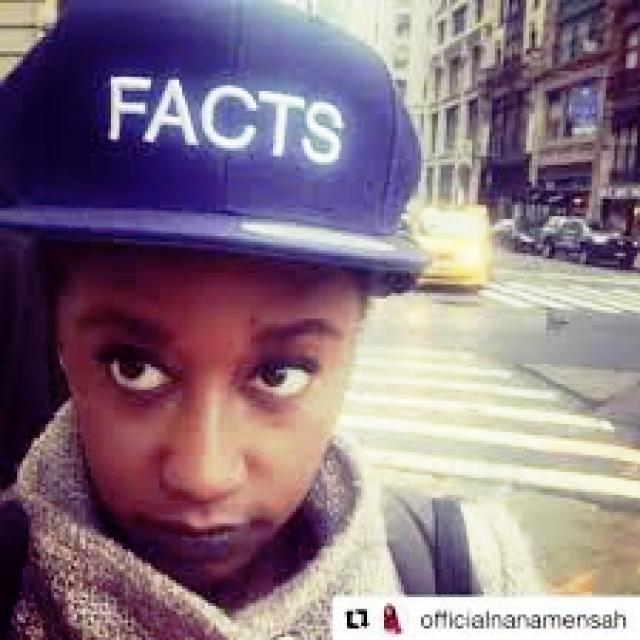TOPI: (0, 0, 432, 287)
